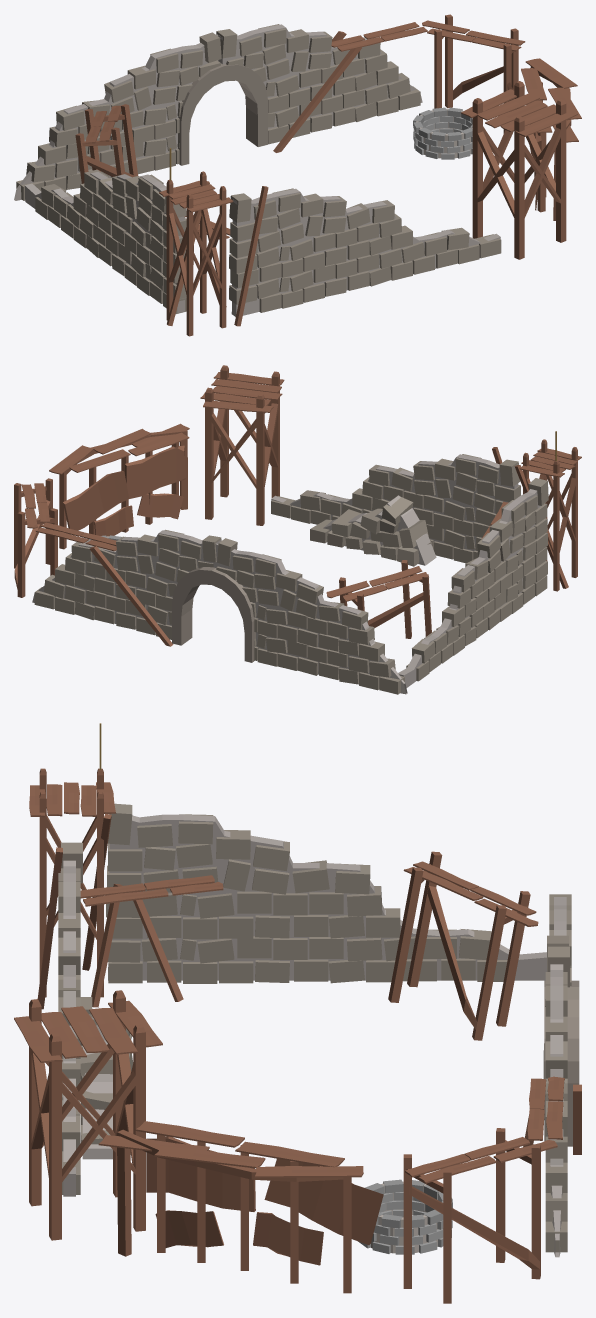
The model's file is zamek.glb.
The picture shows the model from 3 angles, top to bottom: view 1: azimuth 30°, elevation 25°; view 2: azimuth 150°, elevation 25°; view 3: azimuth 270°, elevation 25°; orthographic projection. The views are drawn at different scales.
Visible parts, largest first — view 1: Cube.164; view 2: Cube.164; view 3: Cube.164.
Part boxes in pixels (x1=…): Cube.164: x1=14, y1=14, x2=581, y2=336; Cube.164: x1=14, y1=365, x2=581, y2=694; Cube.164: x1=14, y1=723, x2=581, y2=1303.
Size of the model in its own units: 26.55 by 9.34 by 19.
